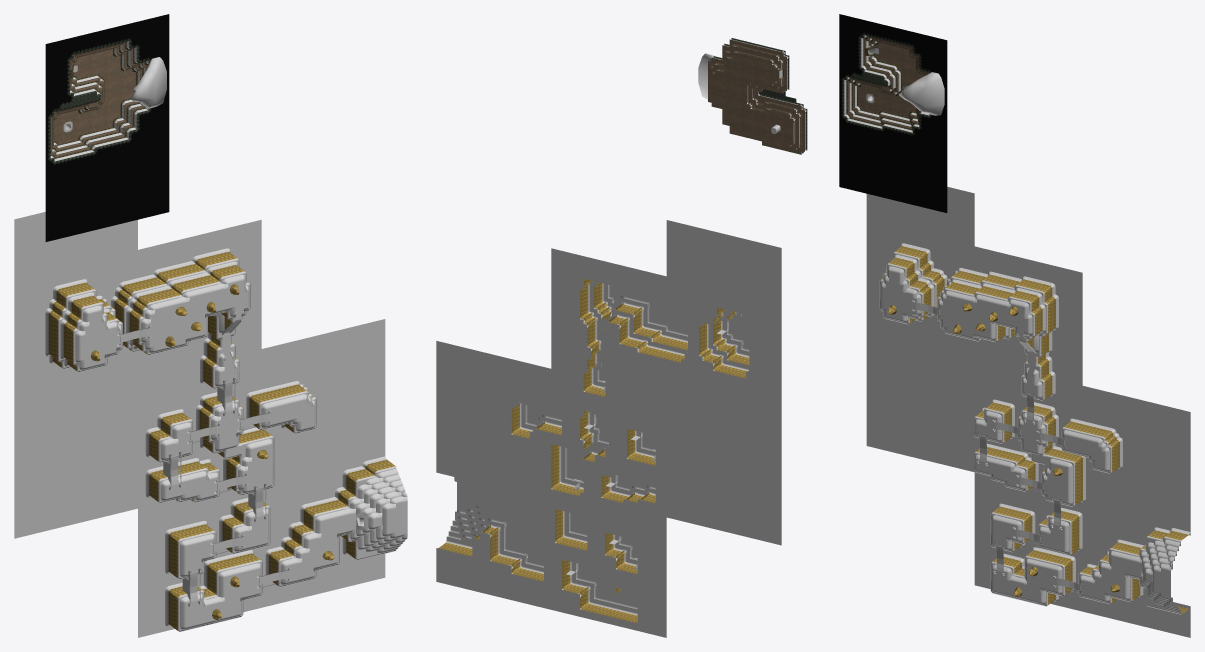
File: Troome-Cave.obj
3 renders of one model, left to right at view 1: azimuth 30°, elevation 25°; view 2: azimuth 150°, elevation 25°; view 3: azimuth 330°, elevation 25°, orthographic. The views are drawn at different scales.
Parts seen in each view (by area): view 1: map; view 2: map; view 3: map.
Boxes of the visible parts, left/top/right/bottom form: map: left=14, top=14, right=407, bottom=637; map: left=436, top=38, right=807, bottom=637; map: left=839, top=14, right=1190, bottom=637.
Size of the model in its own units: 96 by 160 by 18.48.
